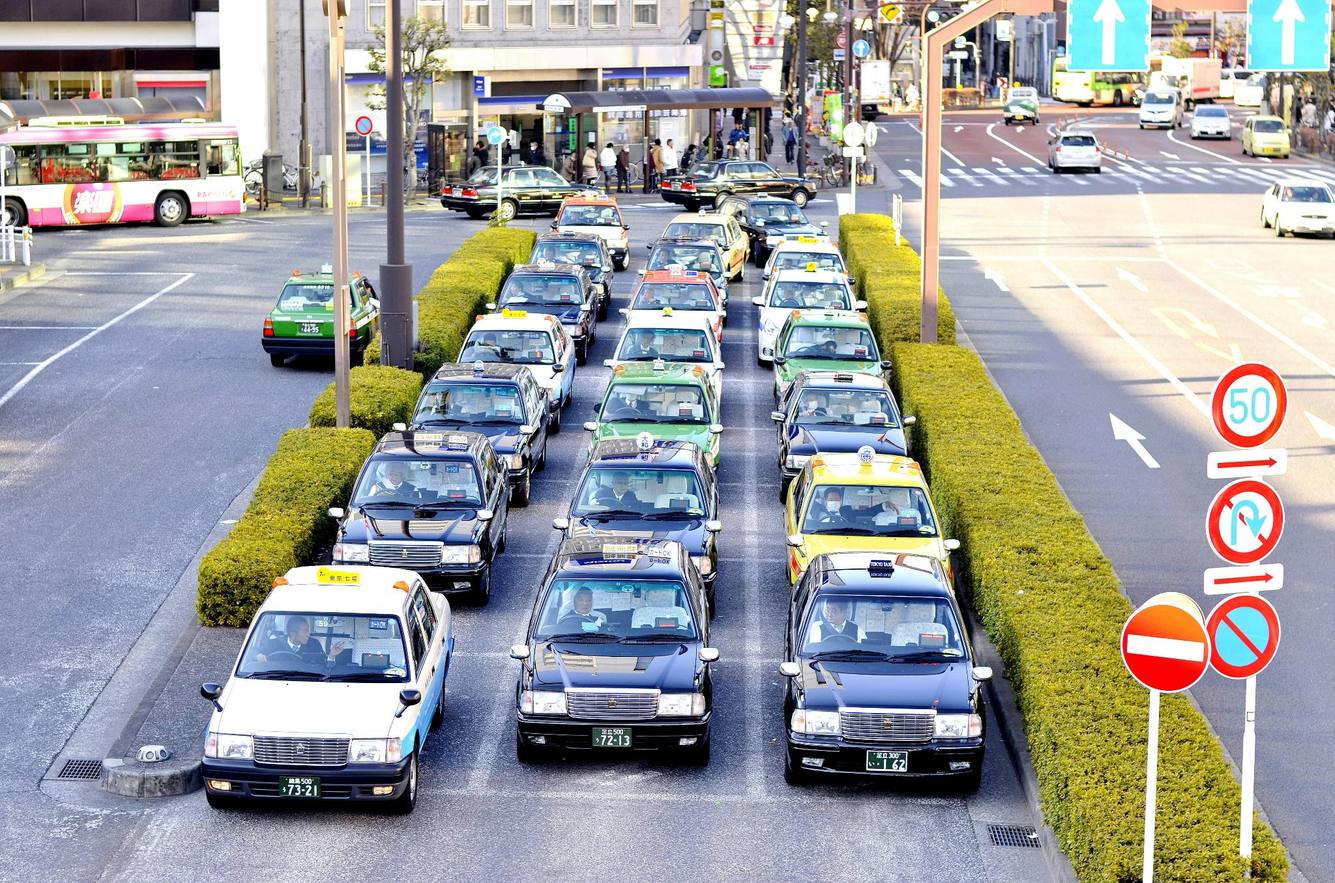barrier: (1120, 595, 1212, 701)
